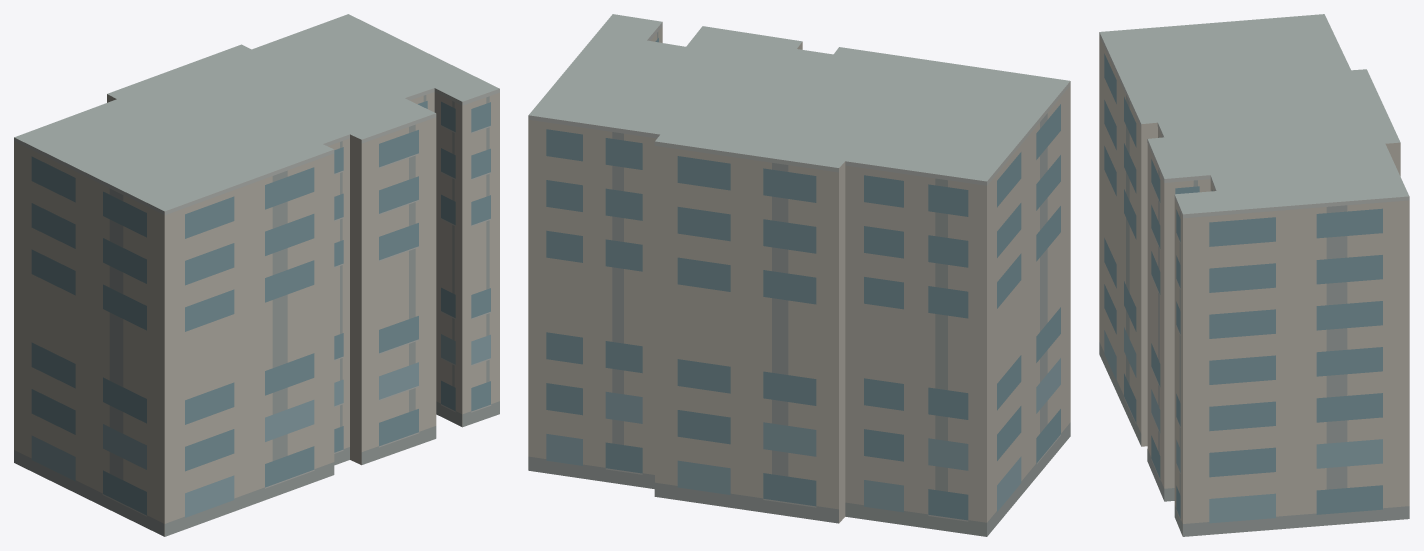
Rendered from survey-upis-32983501.glb.
The picture shows the model from 3 angles, left to right: view 1: azimuth 30°, elevation 25°; view 2: azimuth 150°, elevation 25°; view 3: azimuth 270°, elevation 25°; orthographic projection. The views are drawn at different scales.
Visible parts, largest first — view 1: survey-upis-32983501.tmp; view 2: survey-upis-32983501.tmp; view 3: survey-upis-32983501.tmp.
Boxes of the visible parts, box(x1,y1,x2,y2) form: survey-upis-32983501.tmp: box(14, 14, 499, 536); survey-upis-32983501.tmp: box(528, 14, 1070, 536); survey-upis-32983501.tmp: box(1099, 14, 1409, 536).
Size of the model in its own units: 26.52 by 19.9 by 17.35.
